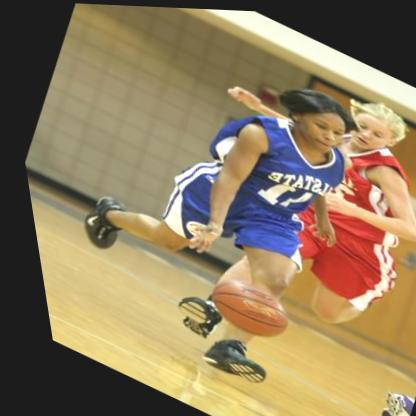basketball: (192, 266, 294, 347)
